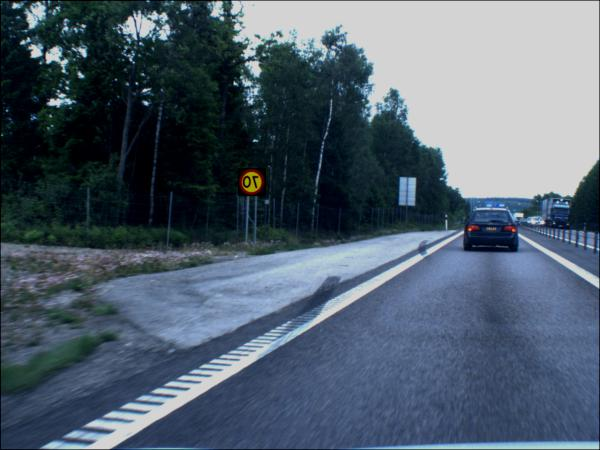70_SIGN: (238, 169, 267, 198)
